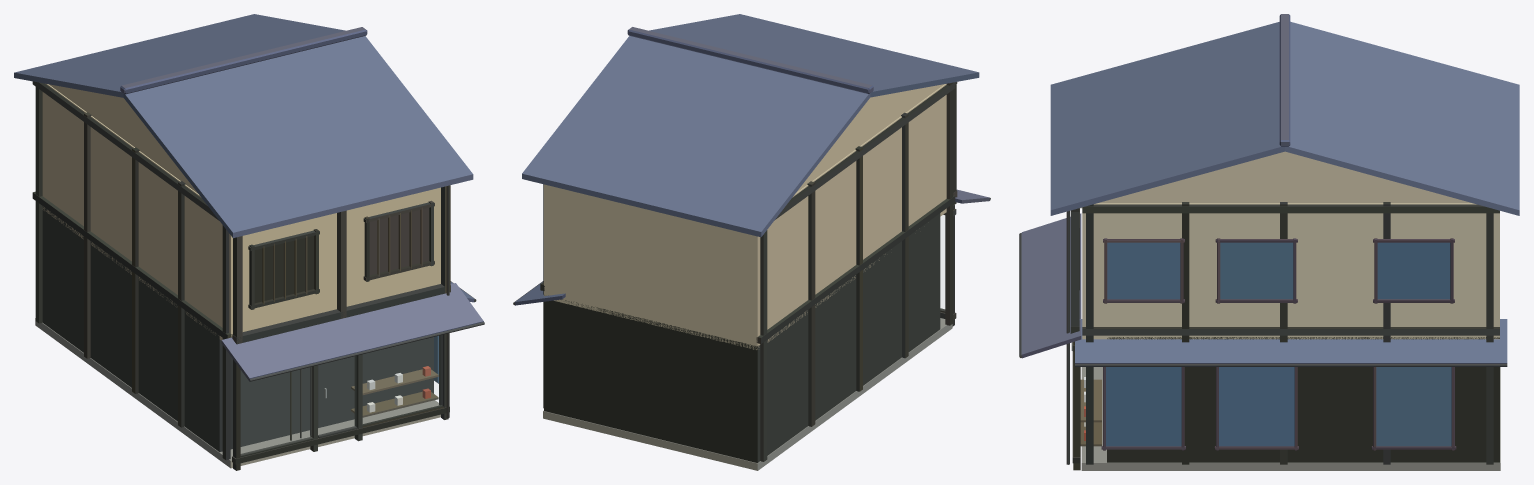
The model's file is ART_CornerShop.lod.glb.
3 renders of one model, left to right at view 1: azimuth 30°, elevation 25°; view 2: azimuth 150°, elevation 25°; view 3: azimuth 270°, elevation 25°, orthographic. The views are drawn at different scales.
Visible parts, largest first — view 1: ART_CornerShop; view 2: ART_CornerShop; view 3: ART_CornerShop.
Part boxes in pixels (x1=…): ART_CornerShop: x1=14, y1=14, x2=484, y2=470; ART_CornerShop: x1=513, y1=14, x2=990, y2=470; ART_CornerShop: x1=1019, y1=14, x2=1519, y2=470.
Bounding box in the file's own units: 6.46 × 7.59 × 10.18.
